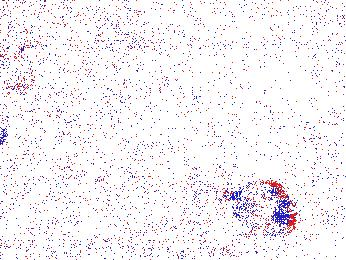flame jellyfish: (231, 178, 298, 229), (1, 49, 35, 144), (183, 160, 235, 215)
